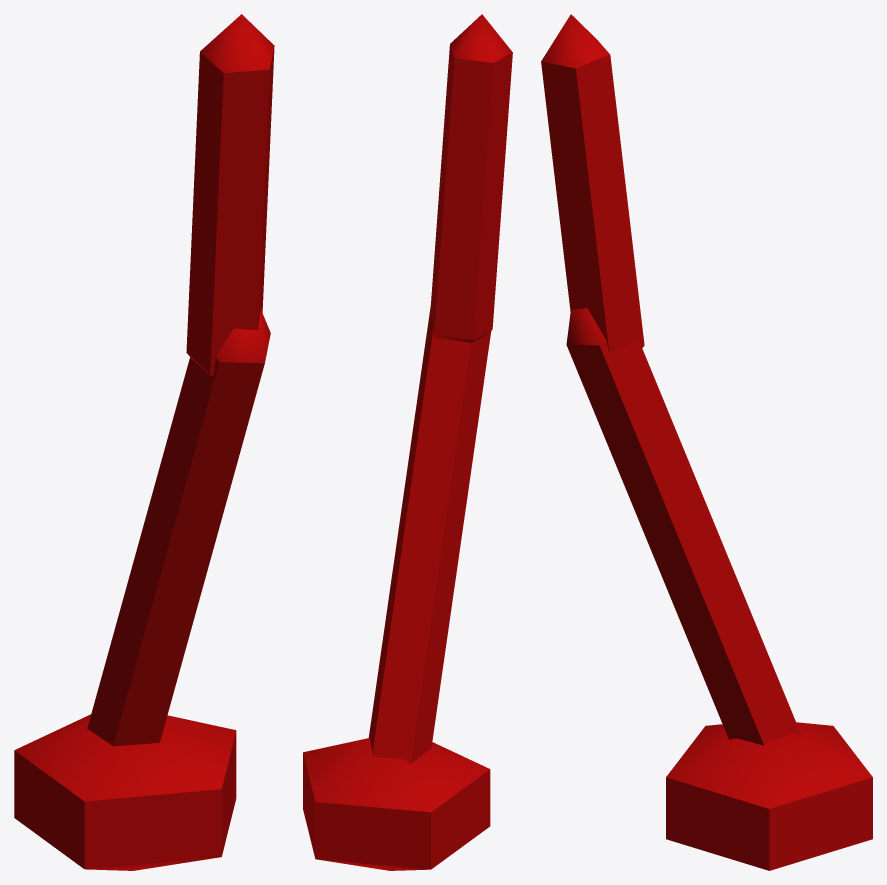
File: SM_Env_Tree_Banana_02_Collision.gltf
3 renders of one model, left to right at view 1: azimuth 30°, elevation 25°; view 2: azimuth 150°, elevation 25°; view 3: azimuth 270°, elevation 25°, orthographic. The views are drawn at different scales.
Visible parts, largest first — view 1: SM_Env_Tree_Banana_02_Collision; view 2: SM_Env_Tree_Banana_02_Collision; view 3: SM_Env_Tree_Banana_02_Collision.
Part boxes in pixels (x1=…): SM_Env_Tree_Banana_02_Collision: x1=14, y1=14, x2=274, y2=870; SM_Env_Tree_Banana_02_Collision: x1=303, y1=14, x2=512, y2=870; SM_Env_Tree_Banana_02_Collision: x1=541, y1=14, x2=872, y2=870.
Bounding box in the file's own units: 0.8563 × 4.1 × 1.44.
